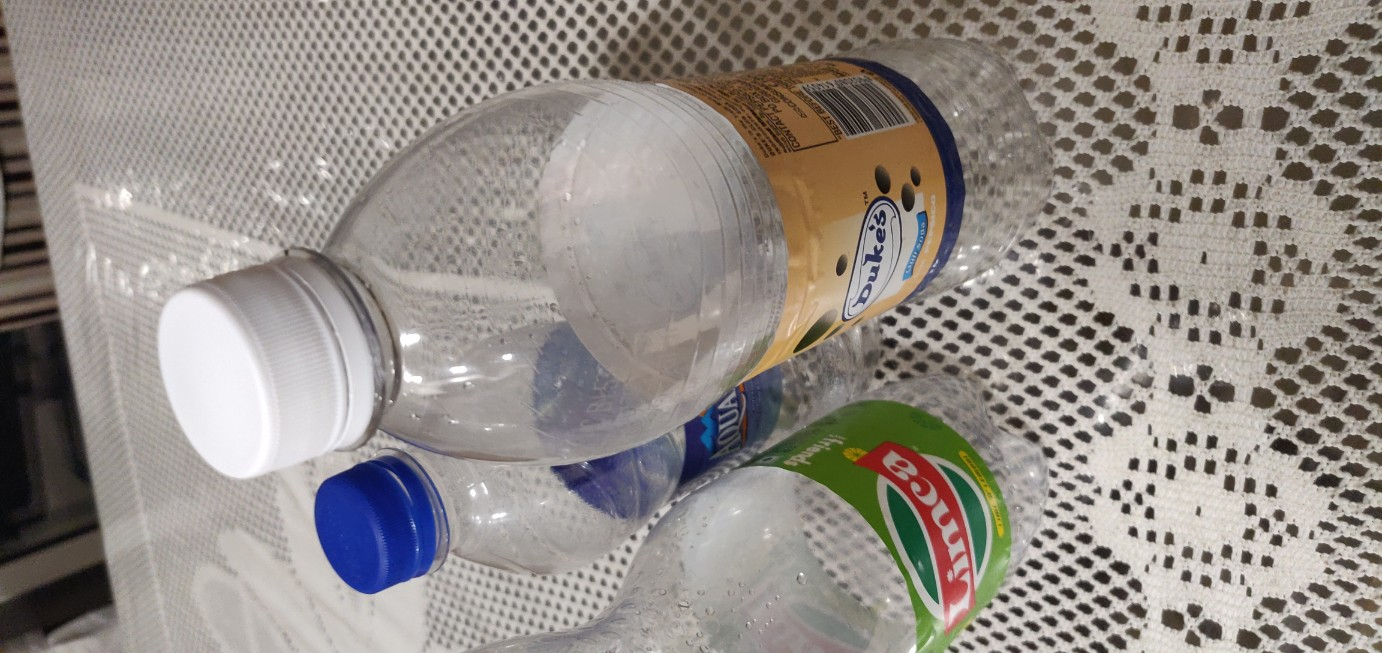Electronics: (138, 22, 1084, 487), (274, 256, 929, 605), (394, 338, 1074, 653)
